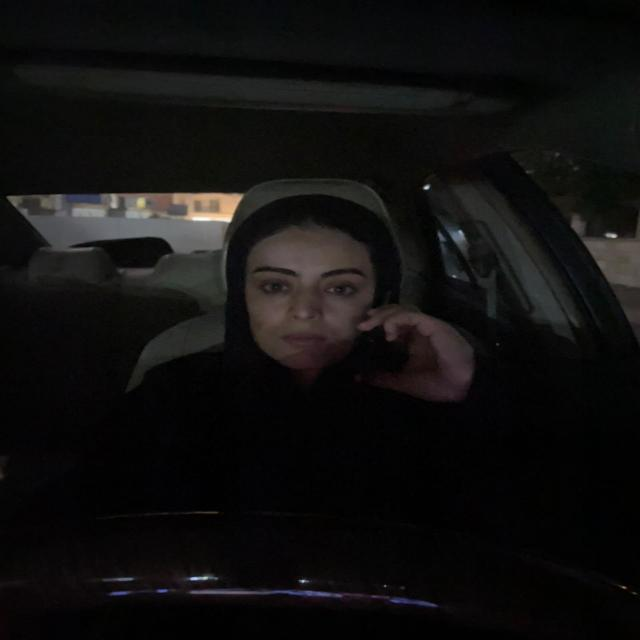mobile: (364, 302, 426, 393)
person: (224, 200, 395, 377)
